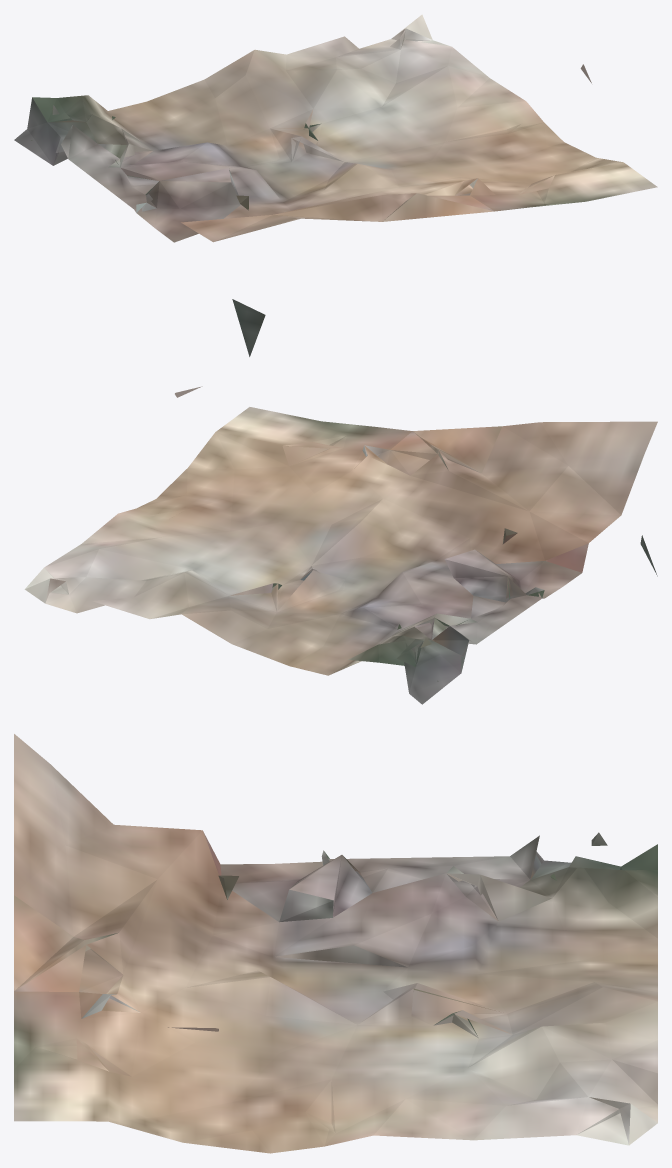
The model's file is Tile__004__006_L15_0.glb.
The picture shows the model from 3 angles, top to bottom: view 1: azimuth 30°, elevation 25°; view 2: azimuth 150°, elevation 25°; view 3: azimuth 270°, elevation 25°; orthographic projection. The views are drawn at different scales.
Visible parts, largest first — view 1: root; view 2: root; view 3: root.
Boxes of the visible parts, <box> form: root: <box>14,14,657,356</box>; root: <box>24,386,657,704</box>; root: <box>14,734,657,1153</box>.
Size of the model in its own units: 101 by 36.8 by 101.
1 material, 1 textured.
